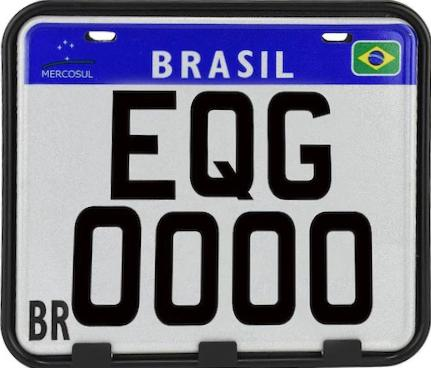Placa_mercosul_carro: (15, 12, 420, 354)
